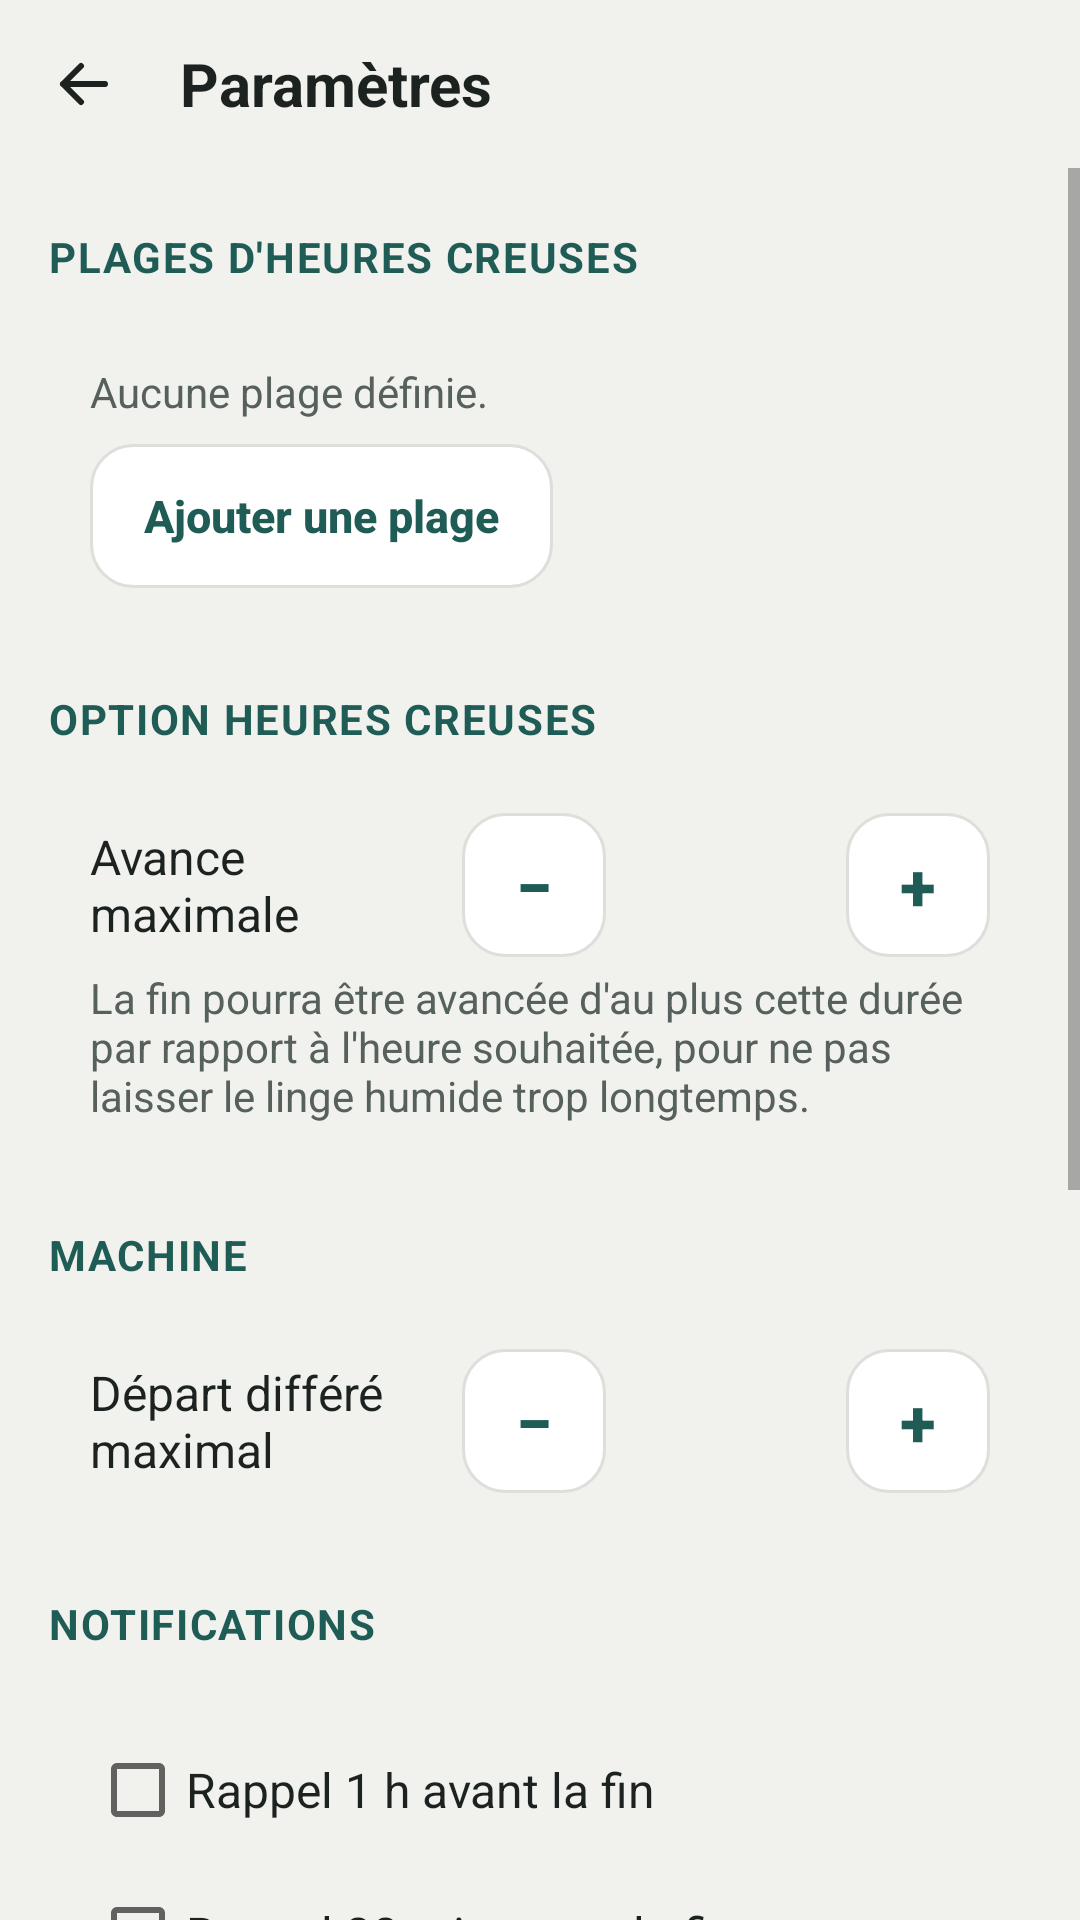

Icons on this 1080×1920 Android screen, each with its box as box=[x1, y1, x2, y2]:
Retour: box=[60, 63, 108, 105]
